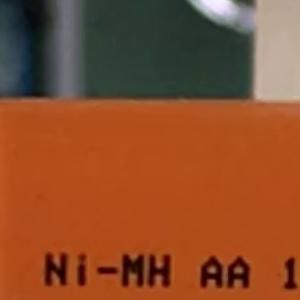keyword: (34, 245, 180, 296)
